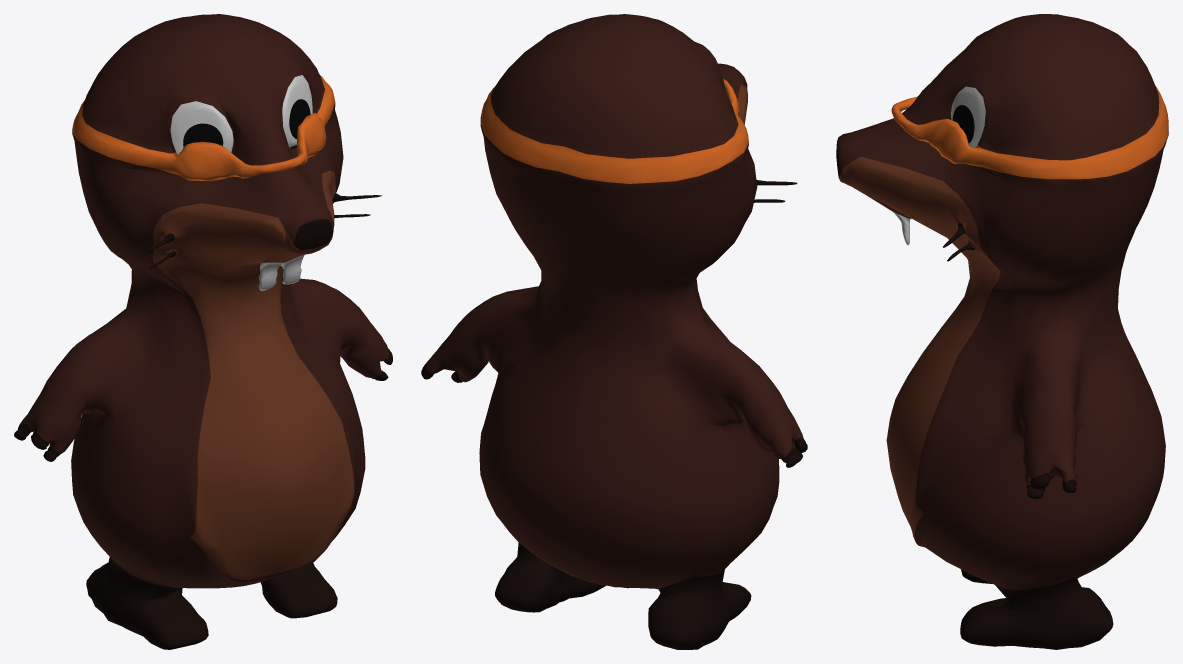
The model's file is TopoAnimado.fbx.
3 views of the same model, side by side, from view 1: azimuth 30°, elevation 25°; view 2: azimuth 150°, elevation 25°; view 3: azimuth 270°, elevation 25° (orthographic). The views are drawn at different scales.
Parts seen in each view (by area): view 1: Topo colores planos; view 2: Topo colores planos; view 3: Topo colores planos.
Part boxes in pixels (left/top/right/bottom): Topo colores planos: left=14, top=14, right=392, bottom=649; Topo colores planos: left=421, top=14, right=807, bottom=649; Topo colores planos: left=836, top=14, right=1168, bottom=649.
Bounding box in the file's own units: 4.56 × 3.57 × 6.9.
